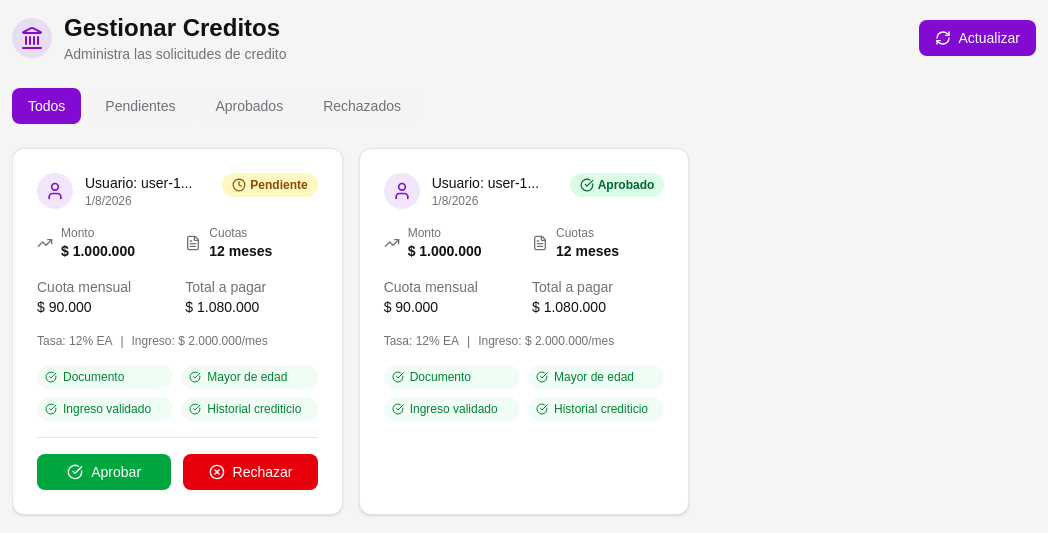
it: AdminLoansClient › should filter loans by status
The image size is (1048, 533).
Click the button "Pendientes".
click(140, 106)  # box [89, 88, 192, 124]
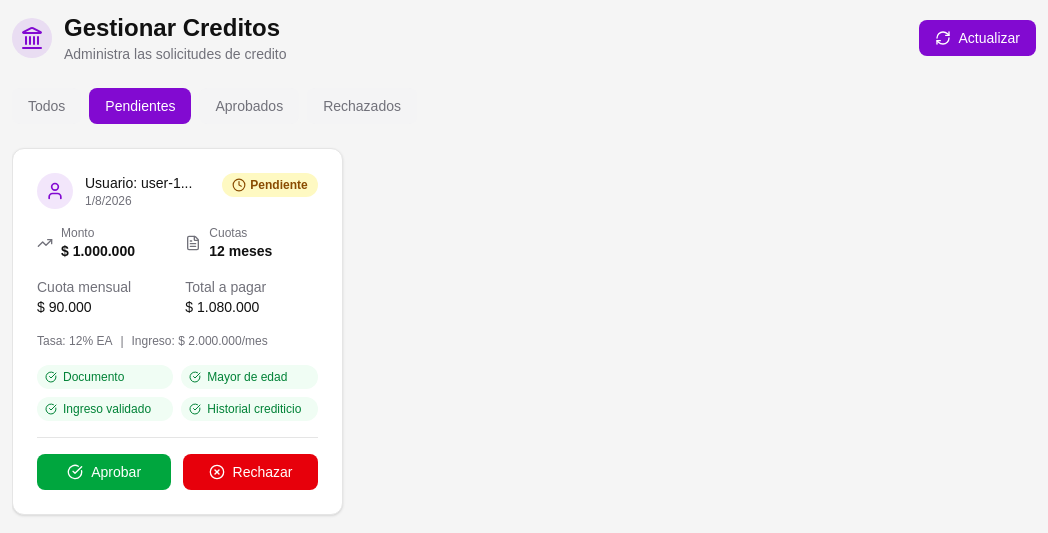
Expected: the button "Aprobar" is shown, [37, 454, 171, 490]
Click the button "Aprobados".
click(249, 106)  # box [199, 88, 299, 124]
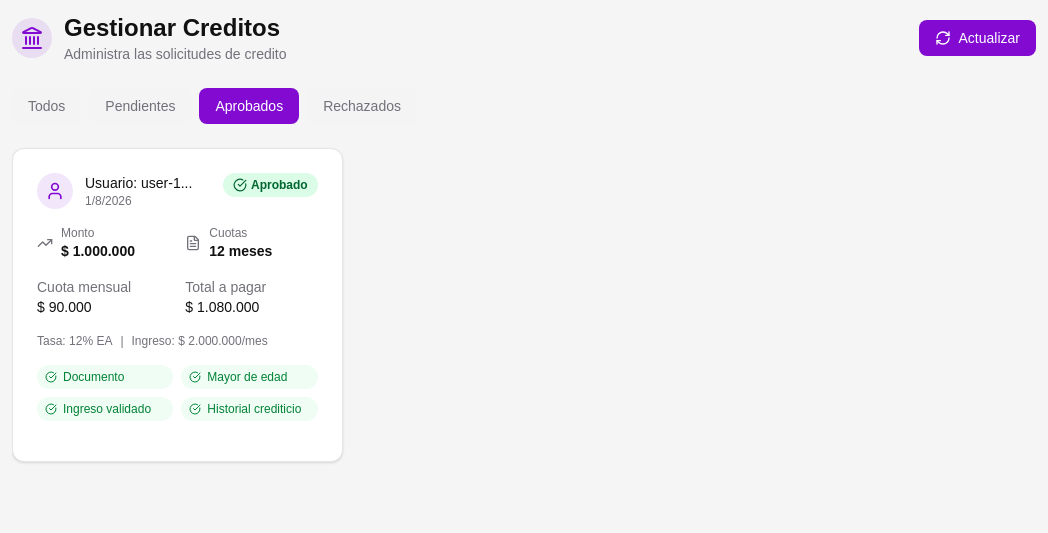
Now the button "Aprobar" is gone
Now the text "Aprobado" is shown, box [223, 173, 318, 197]
